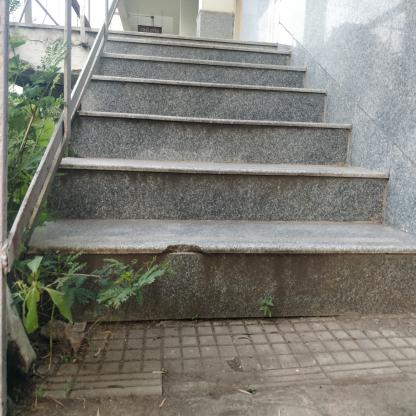stairs: (159, 74, 352, 341)
